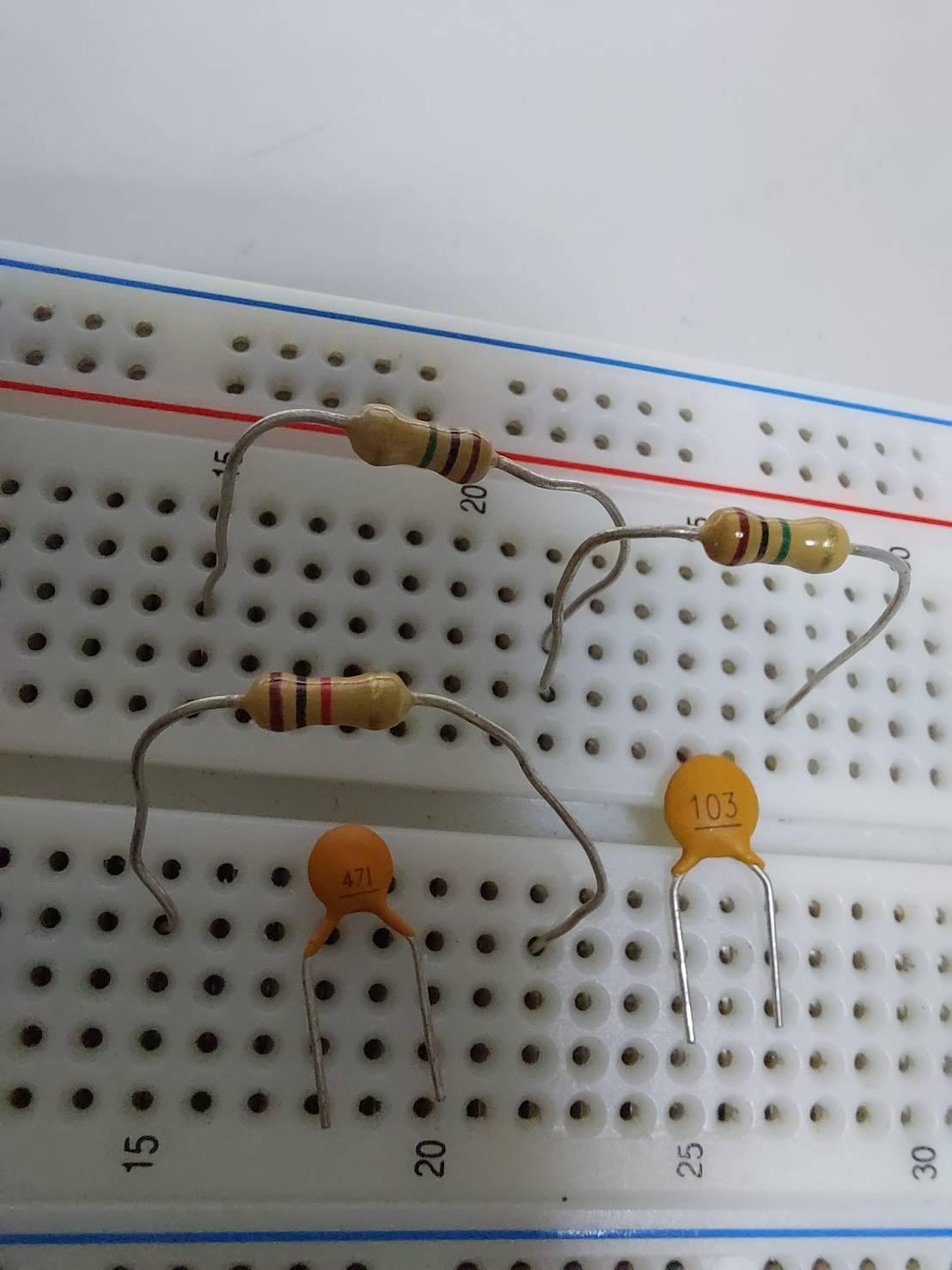resistor: (239, 661, 421, 735), (347, 394, 495, 484), (701, 505, 852, 574)
